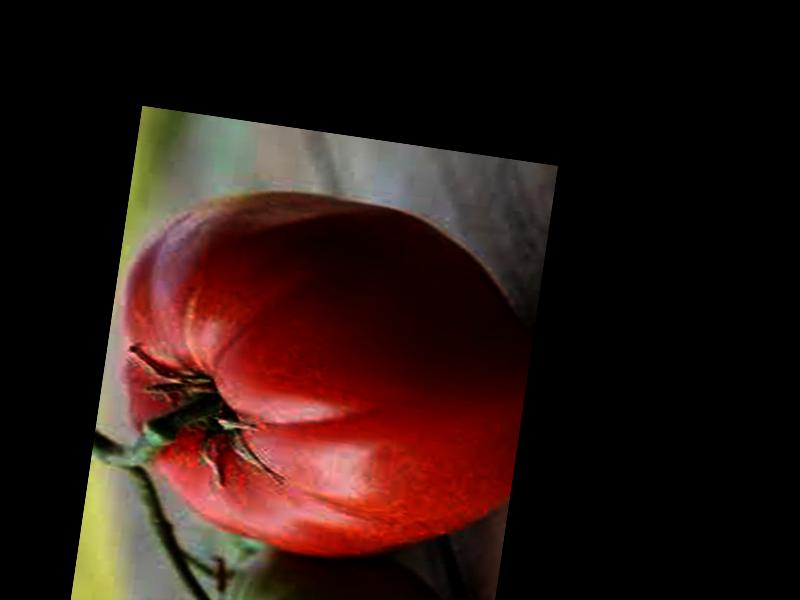Tomato: (89, 167, 549, 580)
